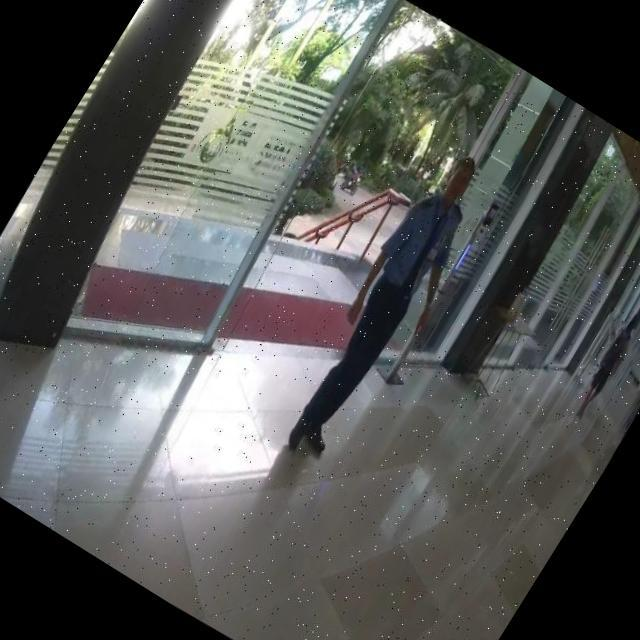person: (262, 138, 518, 476), (567, 308, 640, 421)
